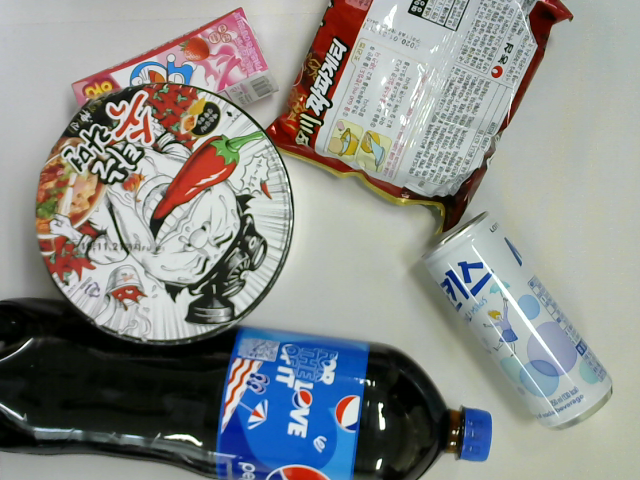HeJangsock: (33, 82, 295, 344)
Milkies_250ml: (426, 211, 617, 430)
Pepsi_Cola_1.5L: (1, 297, 493, 480)
Sichuan_Chapaghetti: (263, 1, 575, 232)
Strawberry_E_Mong: (68, 6, 279, 116)
